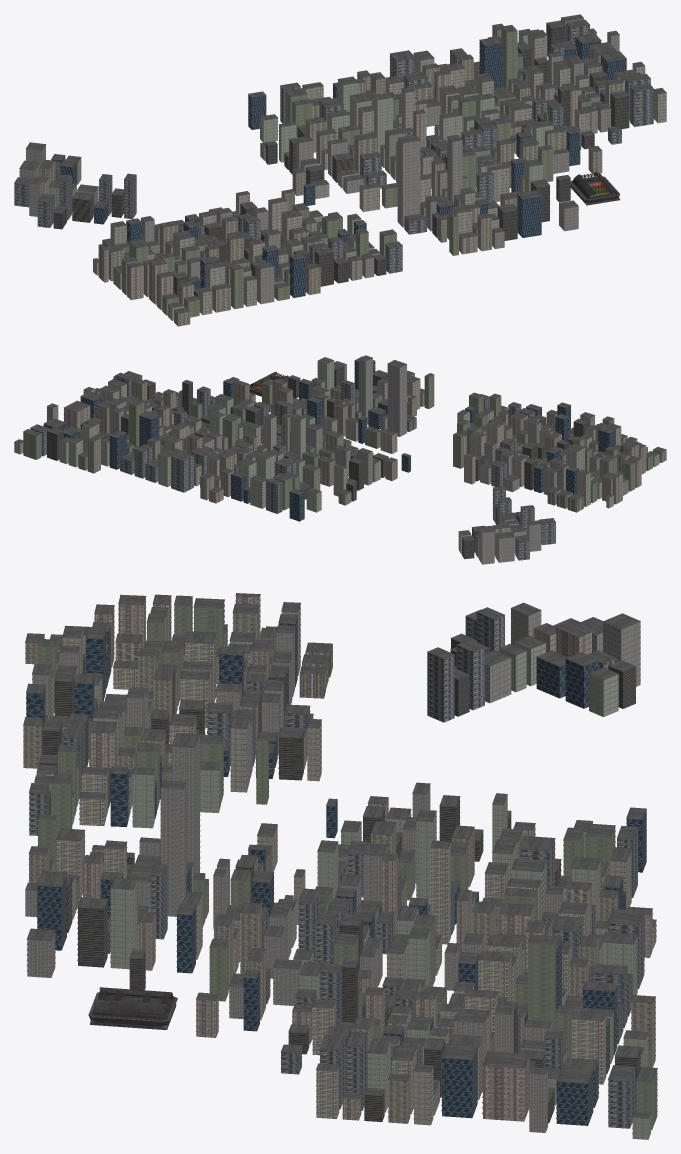
The model's file is city_scrapers.fbx.
3 renders of one model, top to bottom at view 1: azimuth 30°, elevation 25°; view 2: azimuth 150°, elevation 25°; view 3: azimuth 270°, elevation 25°, orthographic. The views are drawn at different scales.
Visible parts, largest first — view 1: Cube.1849; view 2: Cube.1849; view 3: Cube.1849.
Boxes of the visible parts, x1=… form: Cube.1849: x1=14, y1=14, x2=666, y2=326; Cube.1849: x1=14, y1=355, x2=666, y2=564; Cube.1849: x1=23, y1=593, x2=657, y2=1139.
Bounding box in the file's own units: 198740 × 26000 × 107977.
